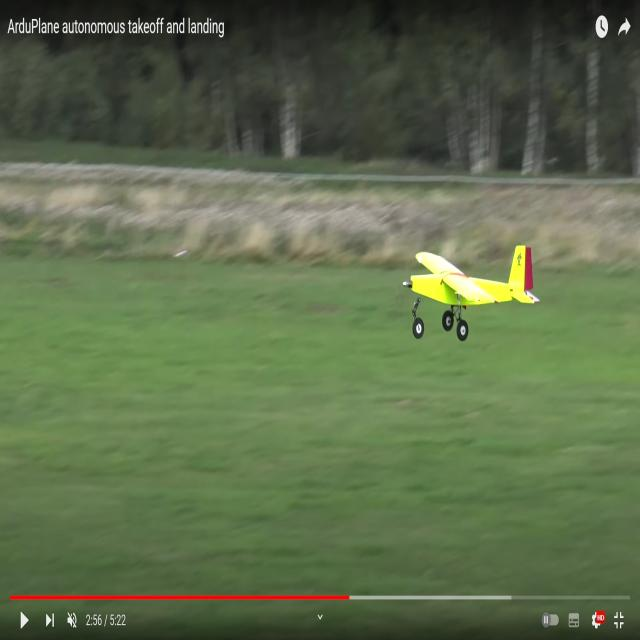iha: (402, 282, 532, 303)
